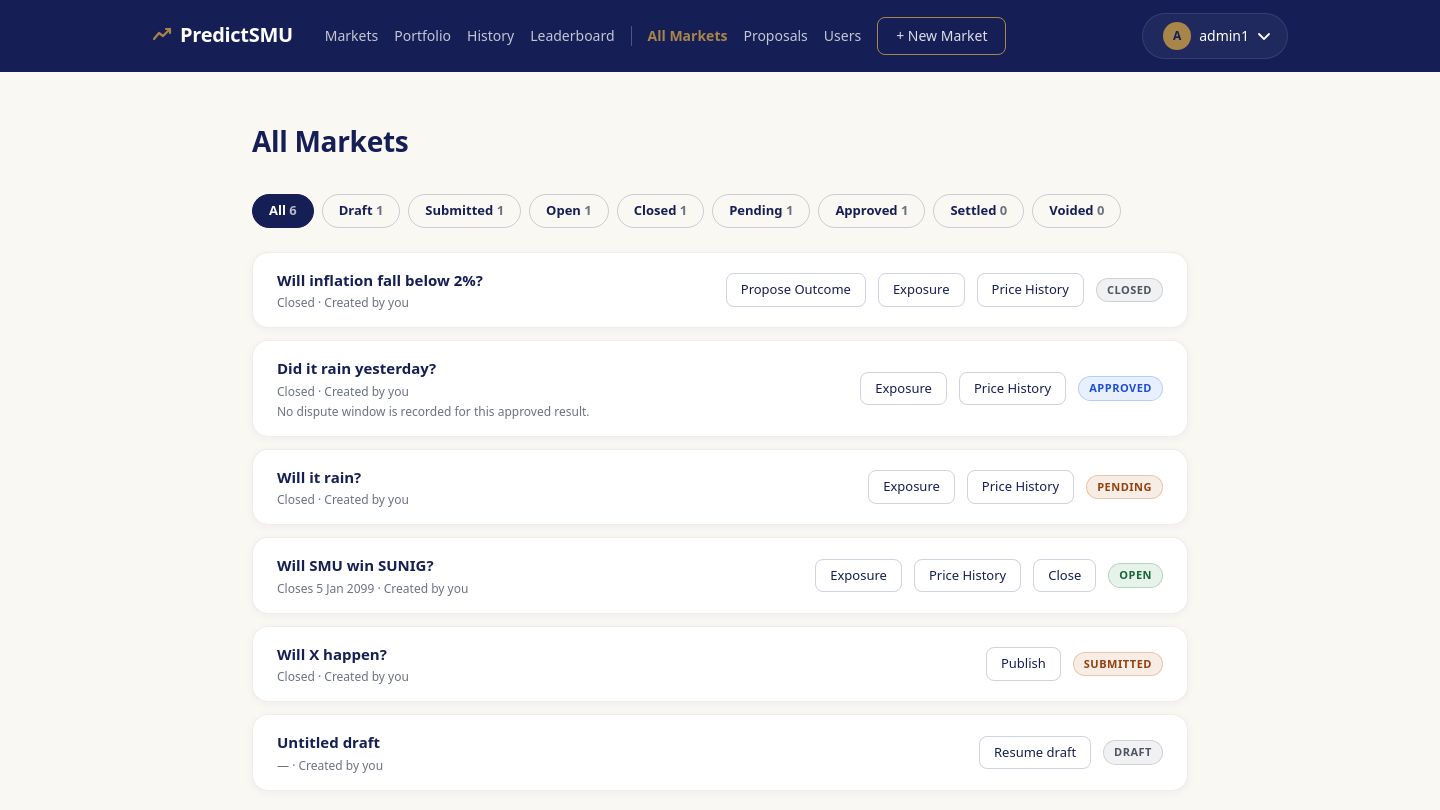
Test case: AdminMarketsPage › asks the server for the chosen status, and shows the rows it returns
The width and height of the screenshot is (1440, 810).
expect the text "Will inflation fall below 2%?" is shown: met, box [277, 268, 483, 291]
Step 1. Click the tab "Open 1" → click(569, 211), box [529, 194, 609, 228]
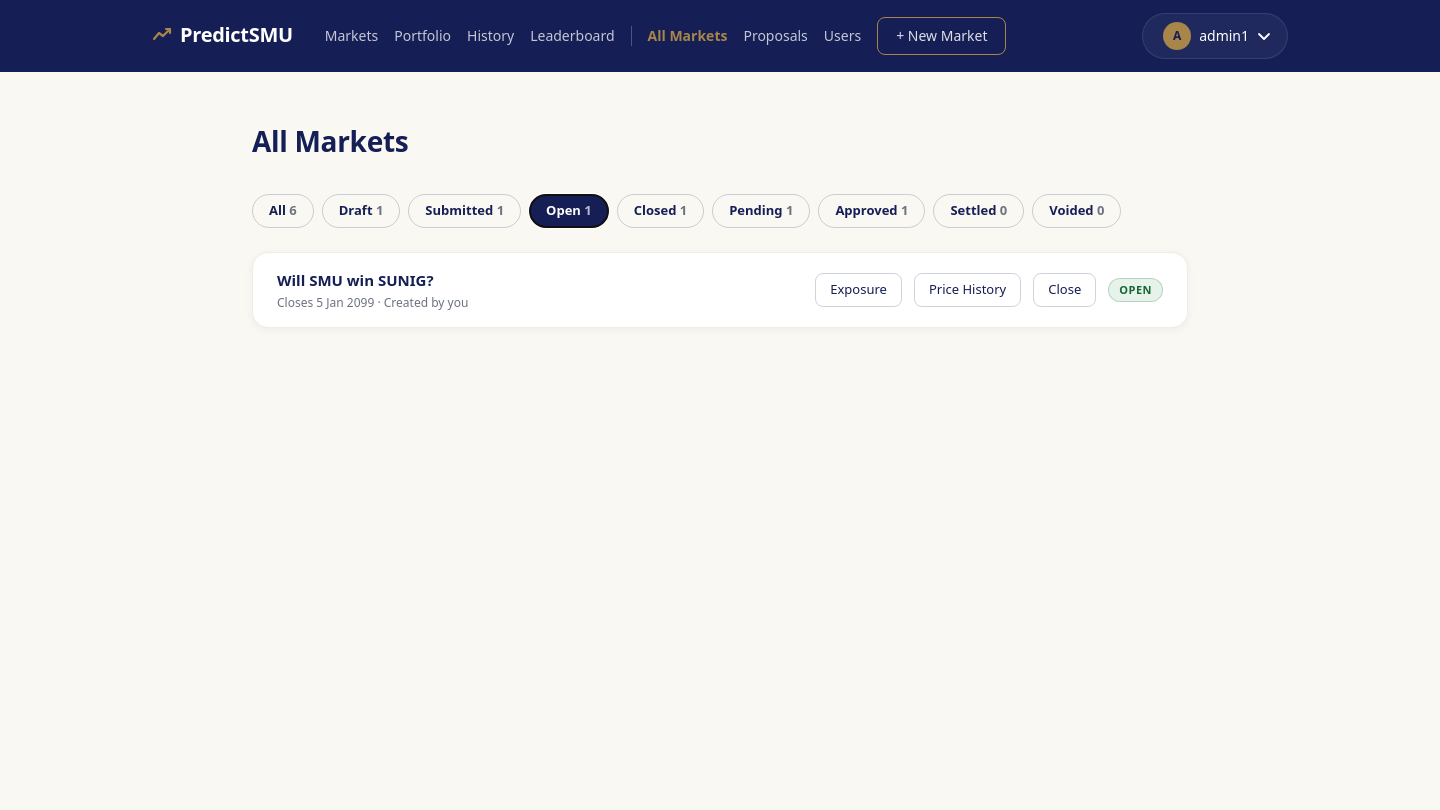
expect the text "Will SMU win SUNIG?" is shown: met, box [277, 270, 434, 290]
expect the text "Will inflation fall below 2%?" is gone: met
